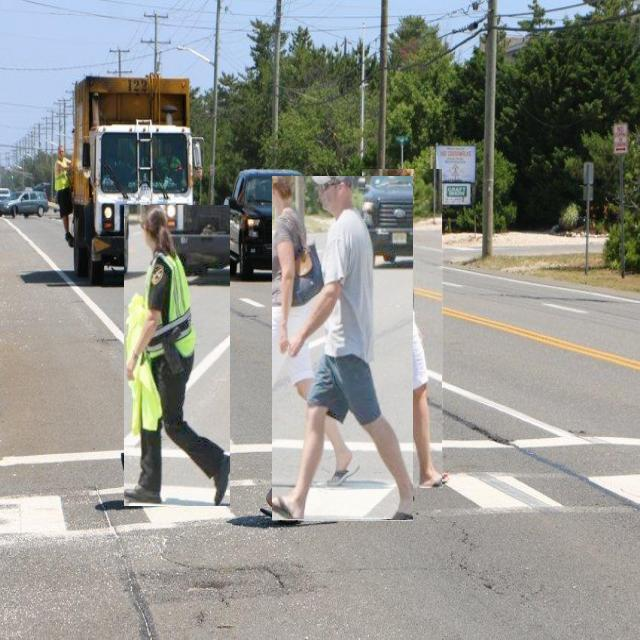without scooter: (272, 177, 413, 522), (124, 206, 230, 507), (363, 170, 444, 488)
